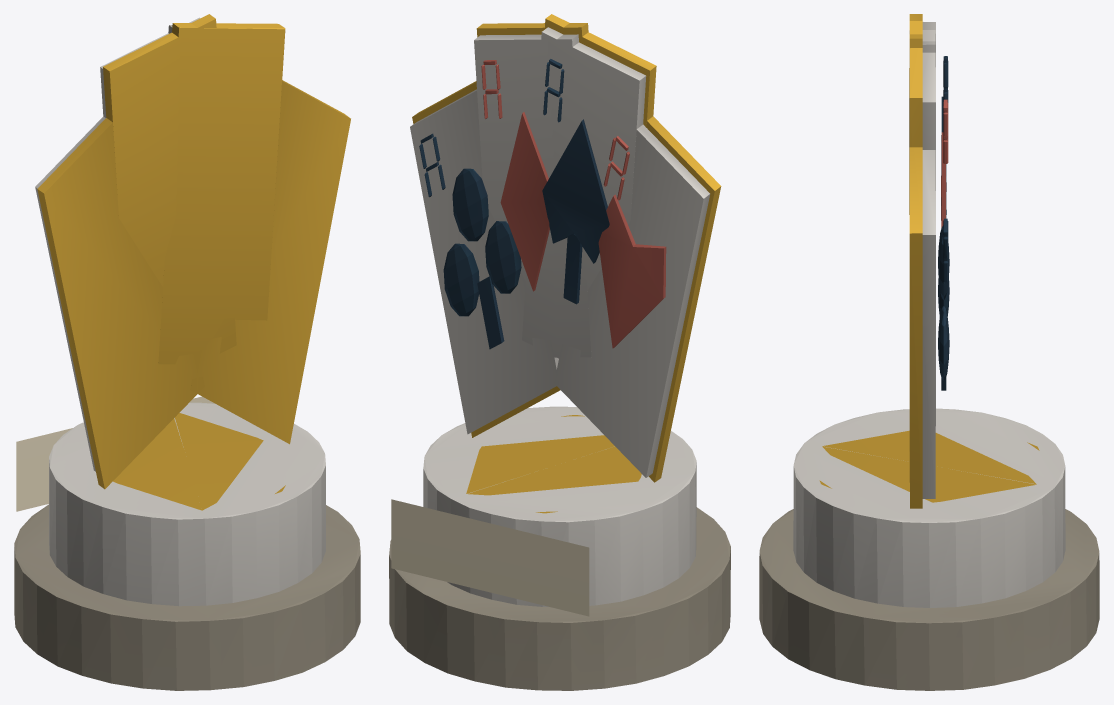
The model's file is trophy_klondike_low.glb.
3 views of the same model, side by side, from view 1: azimuth 30°, elevation 25°; view 2: azimuth 150°, elevation 25°; view 3: azimuth 270°, elevation 25° (orthographic). The views are drawn at different scales.
Parts seen in each view (by area): view 1: symbol, common_pedestal, trophy_plate; view 2: symbol, common_pedestal, trophy_plate; view 3: common_pedestal, symbol.
Boxes of the visible parts, box(x1,y1,x2,y2) form: symbol: box(35, 14, 350, 489); common_pedestal: box(14, 402, 360, 690); trophy_plate: box(16, 396, 214, 511); symbol: box(410, 14, 721, 482); common_pedestal: box(389, 406, 730, 690); trophy_plate: box(391, 499, 589, 616); common_pedestal: box(759, 408, 1099, 690); symbol: box(909, 14, 949, 508).
Bounding box in the file's own units: 0.9177 × 1.72 × 0.8987.
